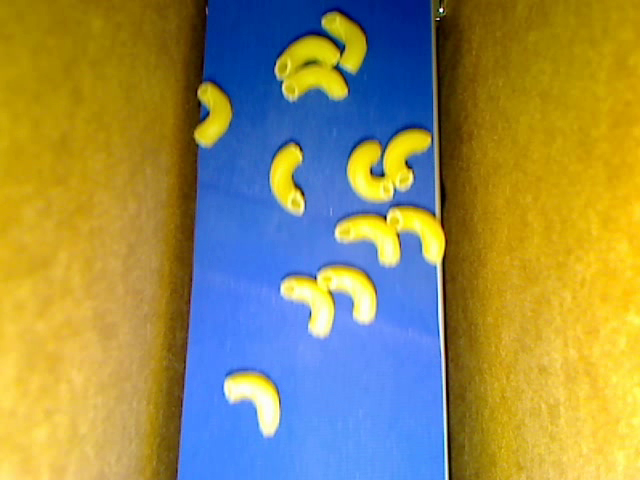elbow: (315, 263, 378, 326), (223, 369, 279, 437), (333, 213, 401, 267), (280, 273, 335, 339), (385, 206, 446, 265), (345, 139, 394, 205), (383, 126, 431, 190), (320, 10, 366, 76), (273, 36, 340, 80), (281, 62, 349, 103), (269, 141, 306, 216), (194, 81, 232, 149)
